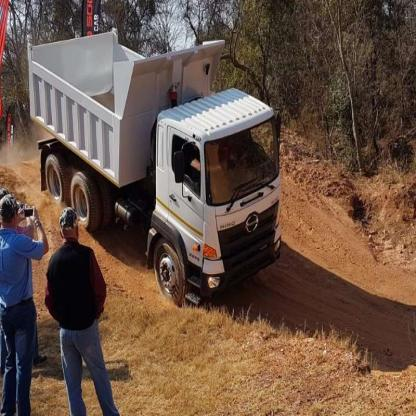dump_truck: (17, 24, 304, 302)
person: (44, 211, 119, 415), (0, 190, 46, 413)
